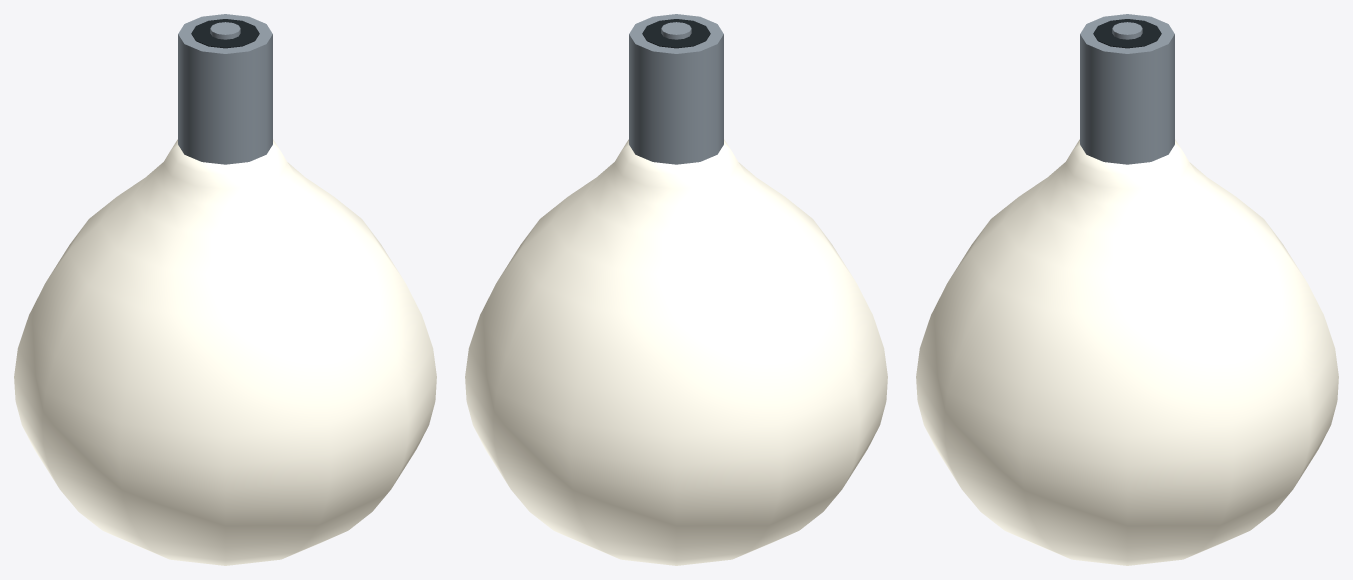
The model's file is source.glb.
3 views of the same model, side by side, from view 1: azimuth 30°, elevation 25°; view 2: azimuth 150°, elevation 25°; view 3: azimuth 270°, elevation 25° (orthographic).
Visible parts, largest first — view 1: Emitters, 机加工金属, 密封及绝缘件; view 2: Emitters, 机加工金属, 密封及绝缘件; view 3: Emitters, 机加工金属, 密封及绝缘件.
Boxes of the visible parts, x1,y1,x2,y2 form: Emitters: (14, 139, 436, 565); 机加工金属: (178, 14, 272, 164); 密封及绝缘件: (191, 19, 259, 48); Emitters: (465, 139, 887, 565); 机加工金属: (629, 14, 723, 164); 密封及绝缘件: (642, 19, 710, 48); Emitters: (916, 139, 1338, 565); 机加工金属: (1080, 14, 1174, 164); 密封及绝缘件: (1093, 19, 1161, 48).
Bounding box in the file's own units: 0.1204 × 0.1597 × 0.1204.
